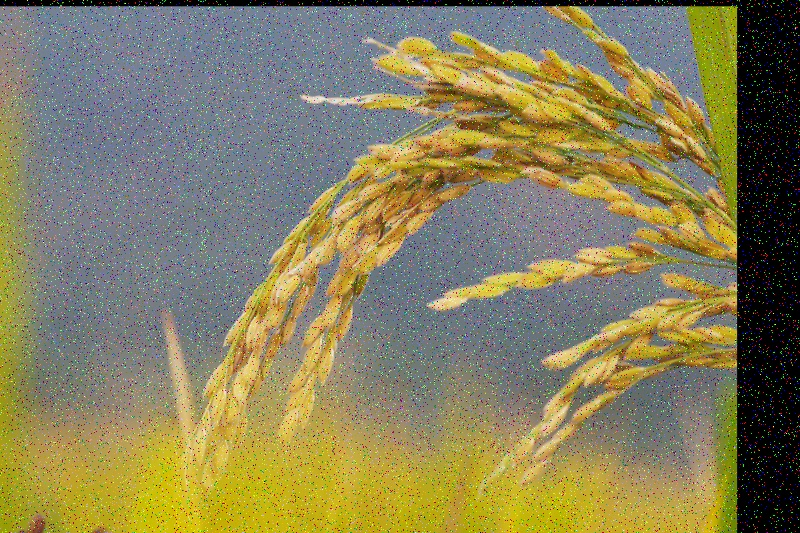rice: (181, 34, 733, 490)
